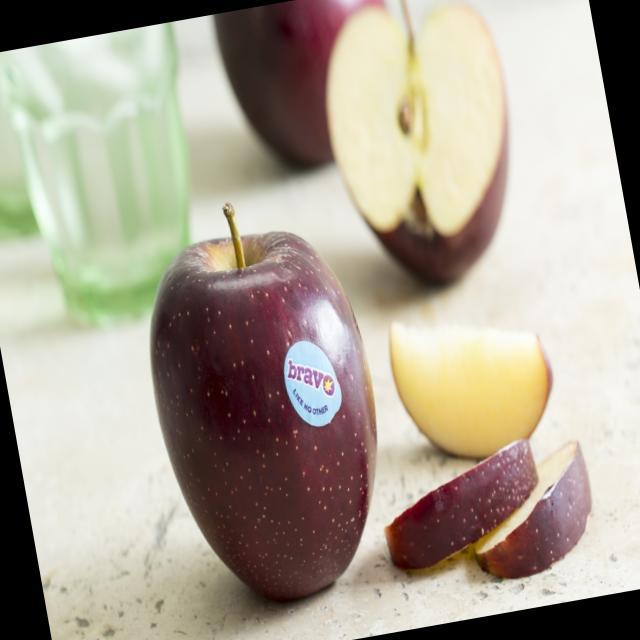APPLE: (130, 210, 408, 623), (307, 0, 554, 300), (212, 0, 414, 197), (384, 300, 564, 470), (372, 434, 556, 576)
